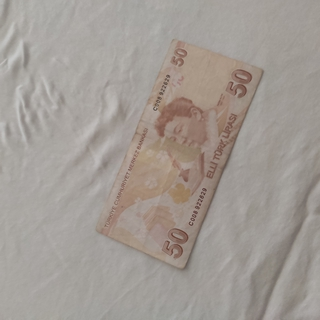50TLBack: (95, 38, 263, 269)
